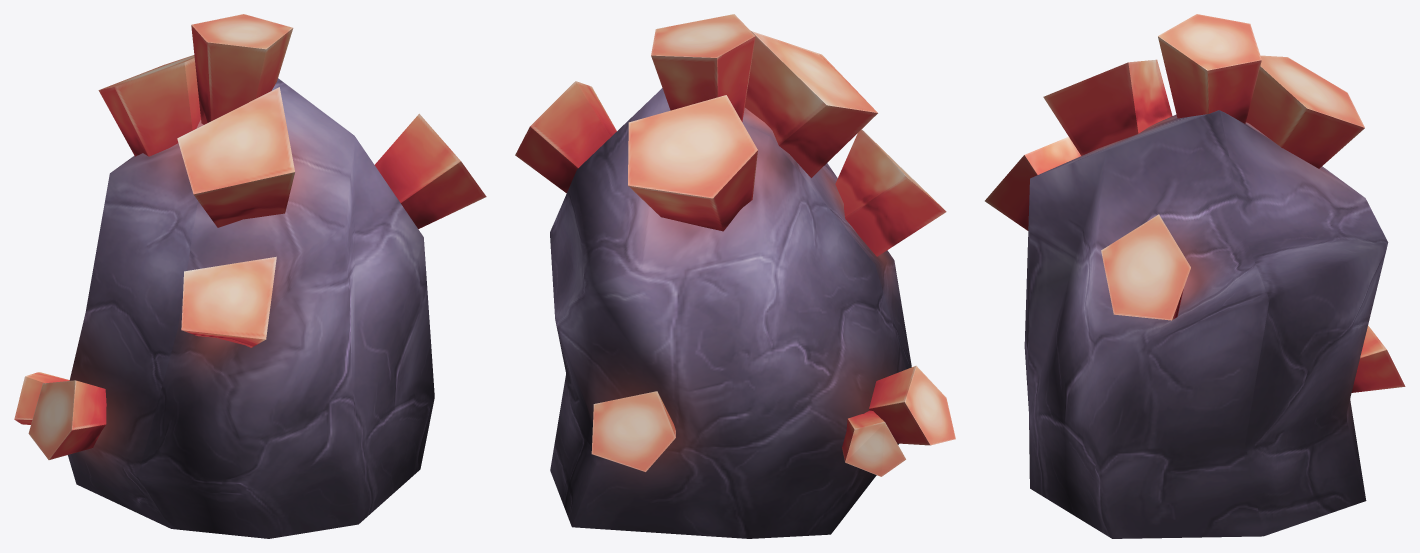
File: ore_big_meteore.fbx
The picture shows the model from 3 angles, left to right: view 1: azimuth 30°, elevation 25°; view 2: azimuth 150°, elevation 25°; view 3: azimuth 270°, elevation 25°; orthographic projection. The views are drawn at different scales.
Visible parts, largest first — view 1: ore_big_meteore1:Mesh; view 2: ore_big_meteore1:Mesh; view 3: ore_big_meteore1:Mesh.
Boxes of the visible parts, x1,y1,x2,y2 form: ore_big_meteore1:Mesh: [14, 14, 486, 538]; ore_big_meteore1:Mesh: [515, 14, 955, 538]; ore_big_meteore1:Mesh: [985, 14, 1405, 538].
Bounding box in the file's own units: 4.94 × 4.9 × 4.24.
